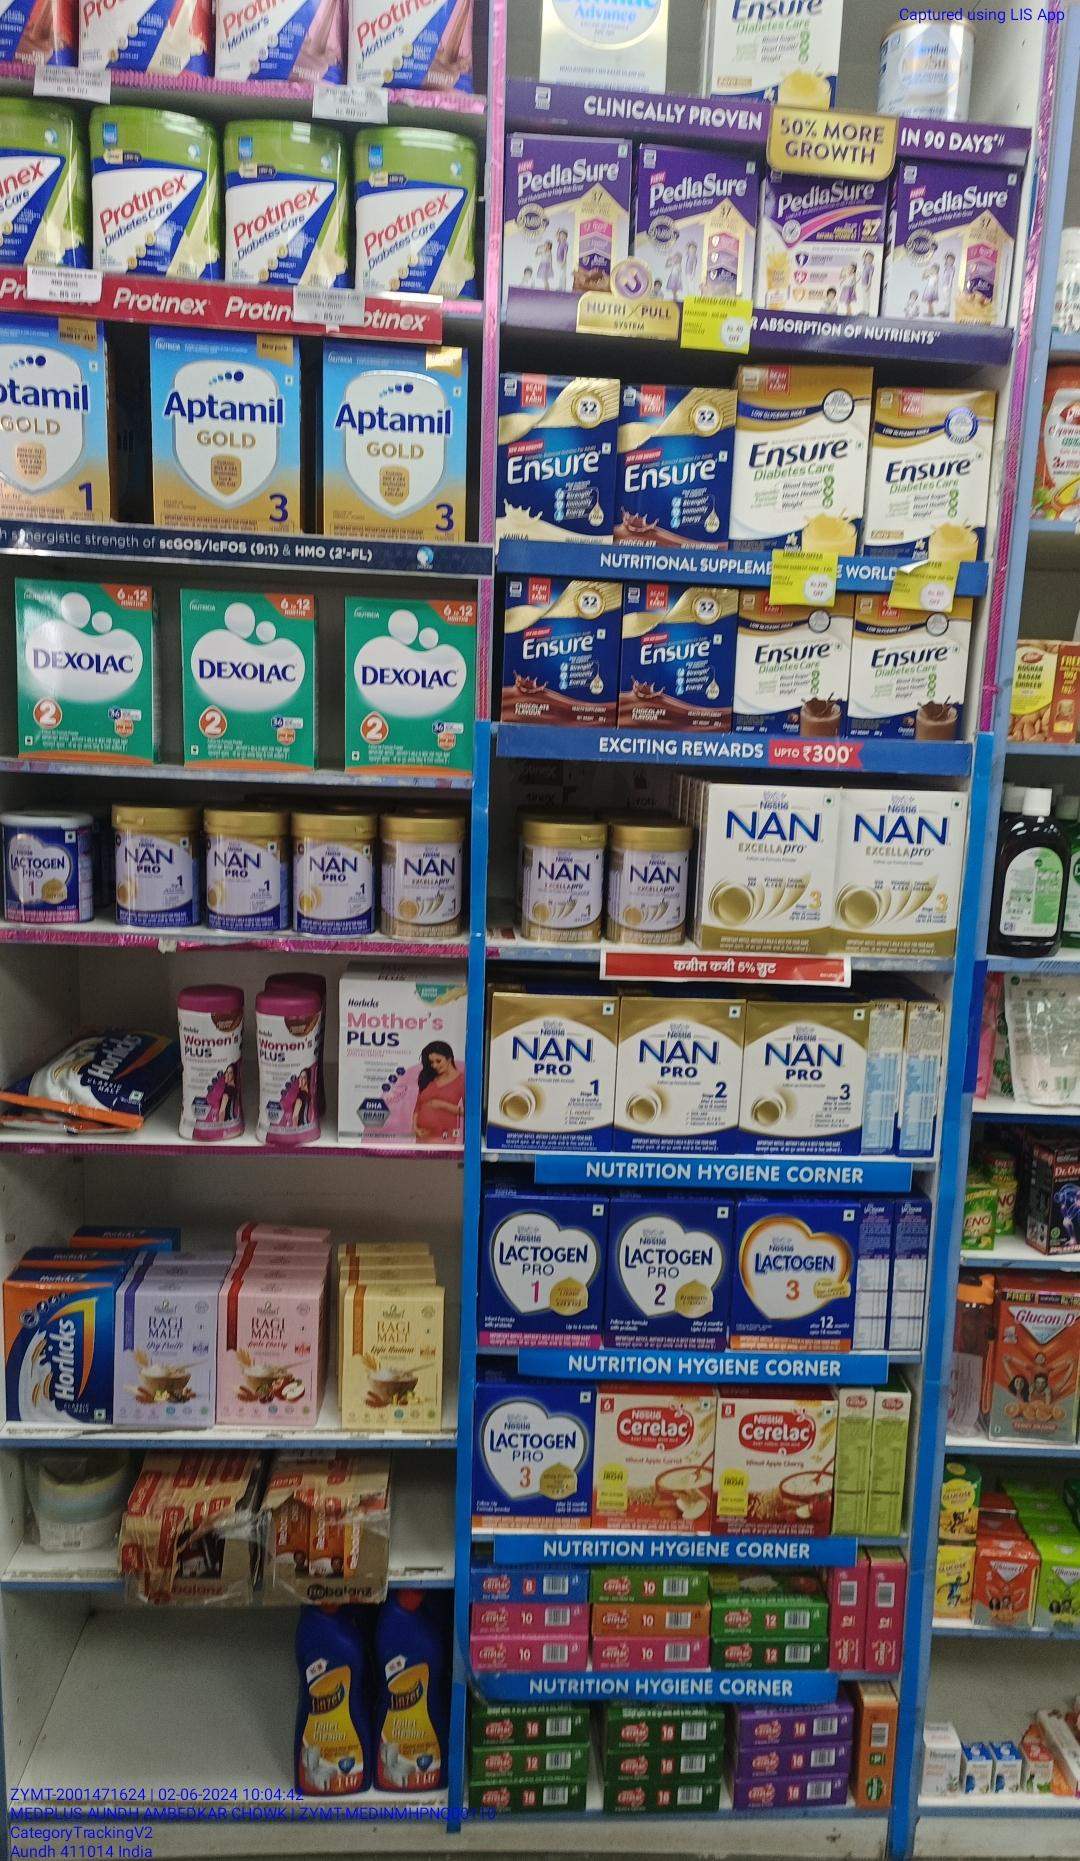ENSURE_VANILLA_400_G_PACK: (498, 370, 616, 548)
HORLICK_CLASSIC_MALT_500_G_PACK: (6, 1283, 114, 1427)
PEDIASURE_CHOCOLATE_500_G_PACK: (505, 135, 631, 302)
PEDIASURE_VANILLA_500_G_PACK: (890, 161, 1012, 325), (640, 144, 755, 305)
